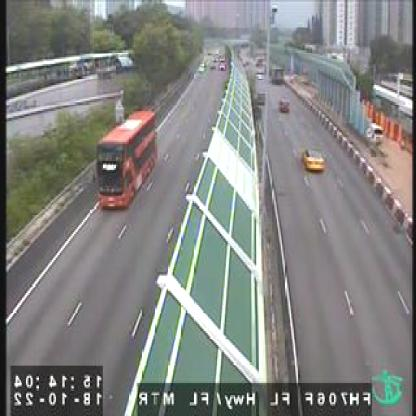Bus: (97, 110, 159, 212)
Car: (303, 148, 324, 174), (278, 96, 291, 114)
